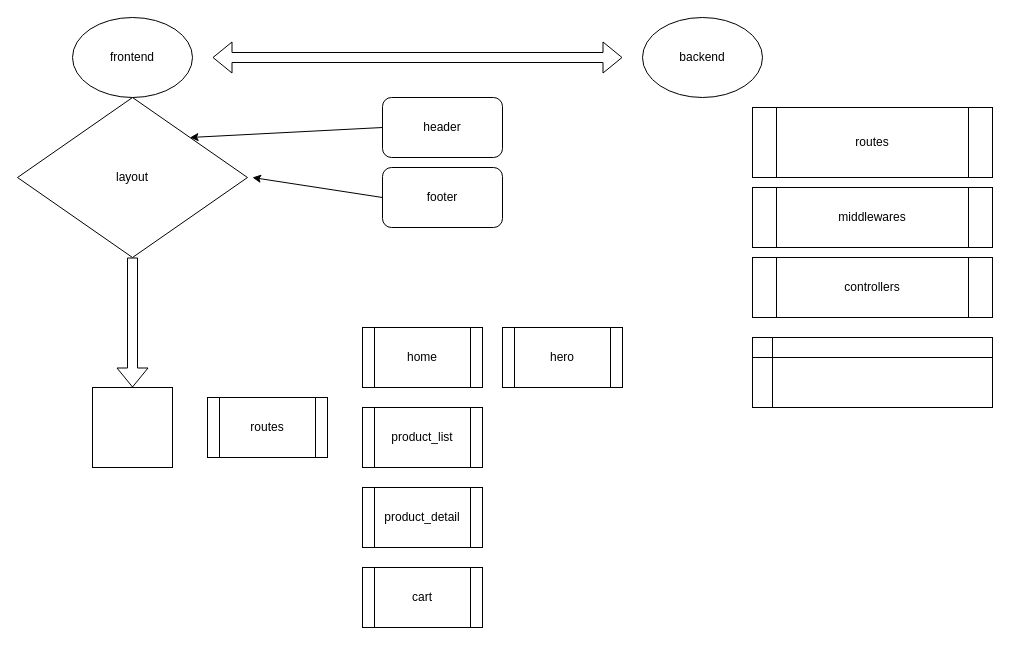
This 1010x645 diagram has some shape labels left out. The centre of each missing label's shape, as x and y in pixels:
DB: point 872,372
outlet: point 132,427
